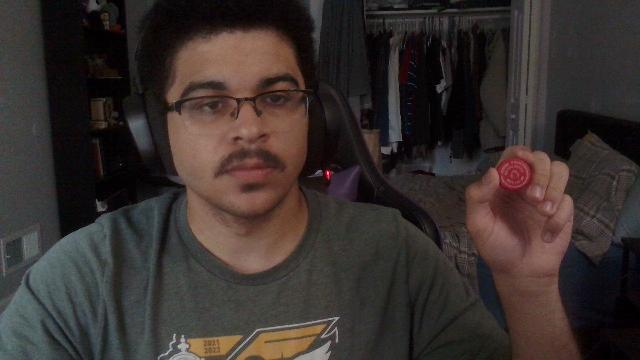cap: (497, 158, 531, 192)
